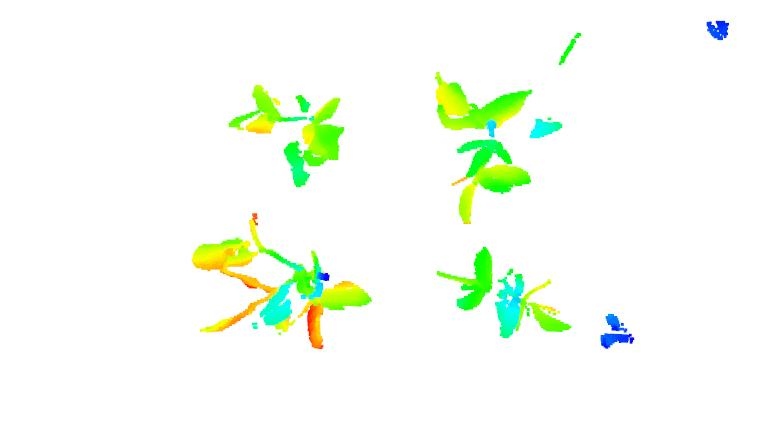mungbean: (185, 222, 367, 350), (429, 67, 562, 224), (432, 243, 576, 343), (221, 81, 348, 184)
